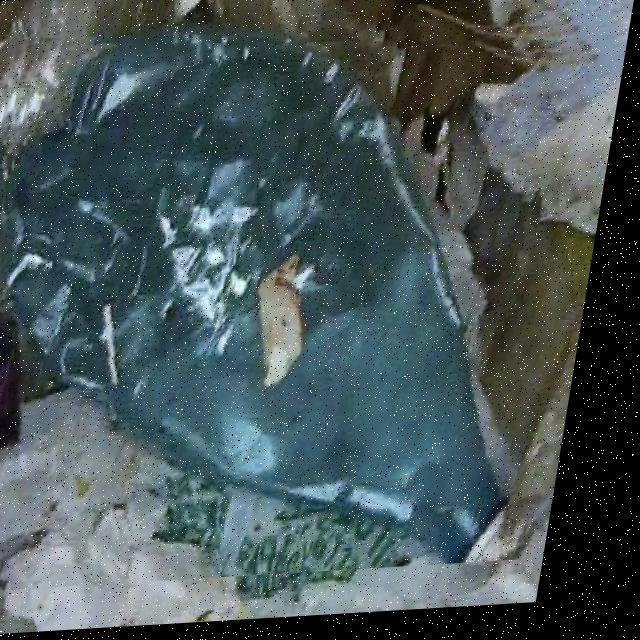plasticbottle: (0, 15, 634, 595)
